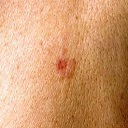Carcinoma: (54, 56, 73, 76)
